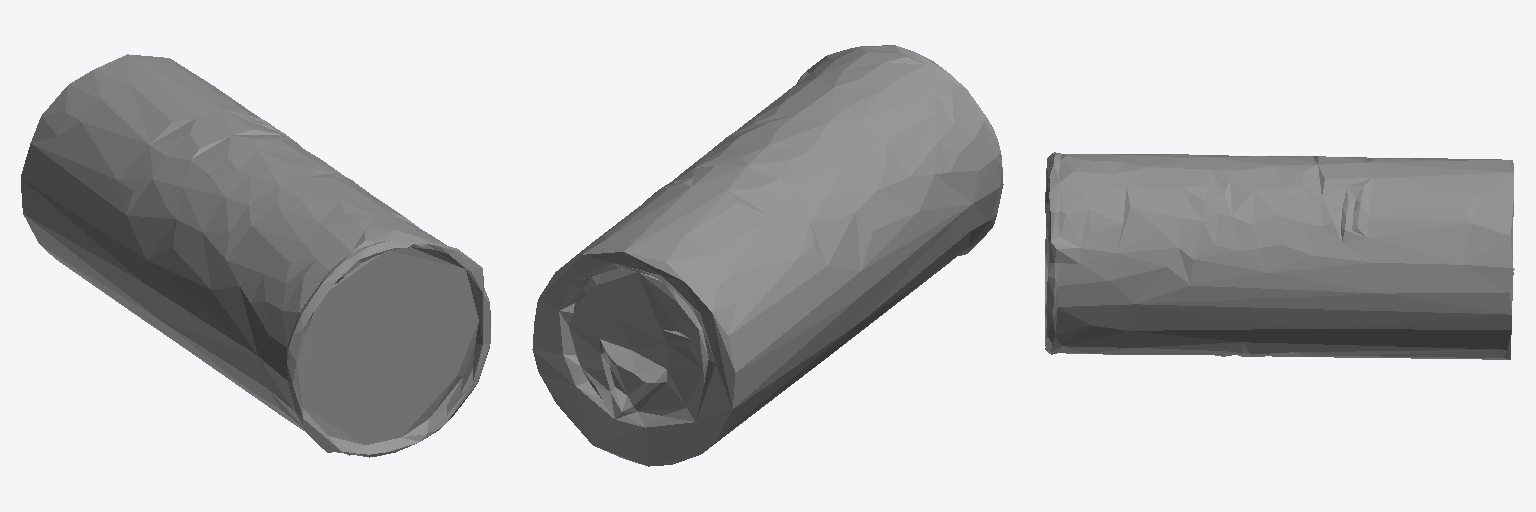
The robot description file, URDF, robot "cube.urdf":
<?xml version="0.0" ?> 
<robot name="cube.urdf"> 
<link name="legobrick"> 
<contact> 
<lateral_friction value="1.0"/>
<rolling_friction value="0.0"/>
<contact_cfm value="0.0"/>
<contact_erp value="1.0"/>
</contact> 
<inertial> 
<origin rpy="0 0 0" xyz="0.0 0.0 0.0"/> 
<mass value="0.1"/> 
<inertia ixx="1" ixy="0" ixz="0" iyy="1" iyz="0" izz="1"/> 
</inertial> 
<visual> 
<origin rpy="1.570796 0 0" xyz="-0.0009389520202020235 0.004281868686868688 -0.002501694444444446"/> 
<geometry> 
<mesh filename="YellowSaltCylinder_800_tex.obj" scale="1 1 1"/> 
</geometry> 
<material name="yellow"> 
<color rgba="0.6 0.6 0.6 1"/> 
</material> 
</visual> 
<collision> 
<origin rpy="1.570796 0 0" xyz="-0.0009389520202020235 0.004281868686868688 -0.002501694444444446"/> 
<geometry> 
<mesh filename="YellowSaltCylinder_800_tex_col.obj" scale="1 1 1"/> 
</geometry> 
</collision> 
</link> 
</robot>

--- Facts derived from the render (not from the file) ---
Views: 3 orthographic renders of the robot side by side, from view 1: azimuth 30°, elevation 25°; view 2: azimuth 150°, elevation 25°; view 3: azimuth 270°, elevation 25°.
Robot: cube.urdf — 1 links, 0 joints (none); root link legobrick; default pose: every joint at zero.
Visible links, largest first — view 1: legobrick; view 2: legobrick; view 3: legobrick.
Link boxes in pixels (bbox=[...]): legobrick: bbox=[21, 54, 490, 457]; legobrick: bbox=[532, 45, 1003, 466]; legobrick: bbox=[1045, 152, 1514, 359].
Bounding box of the posed robot: 0.0442 × 0.1012 × 0.045 m (x, y, z).
1 mesh visuals loaded from 1 distinct referenced files (1 OBJ).